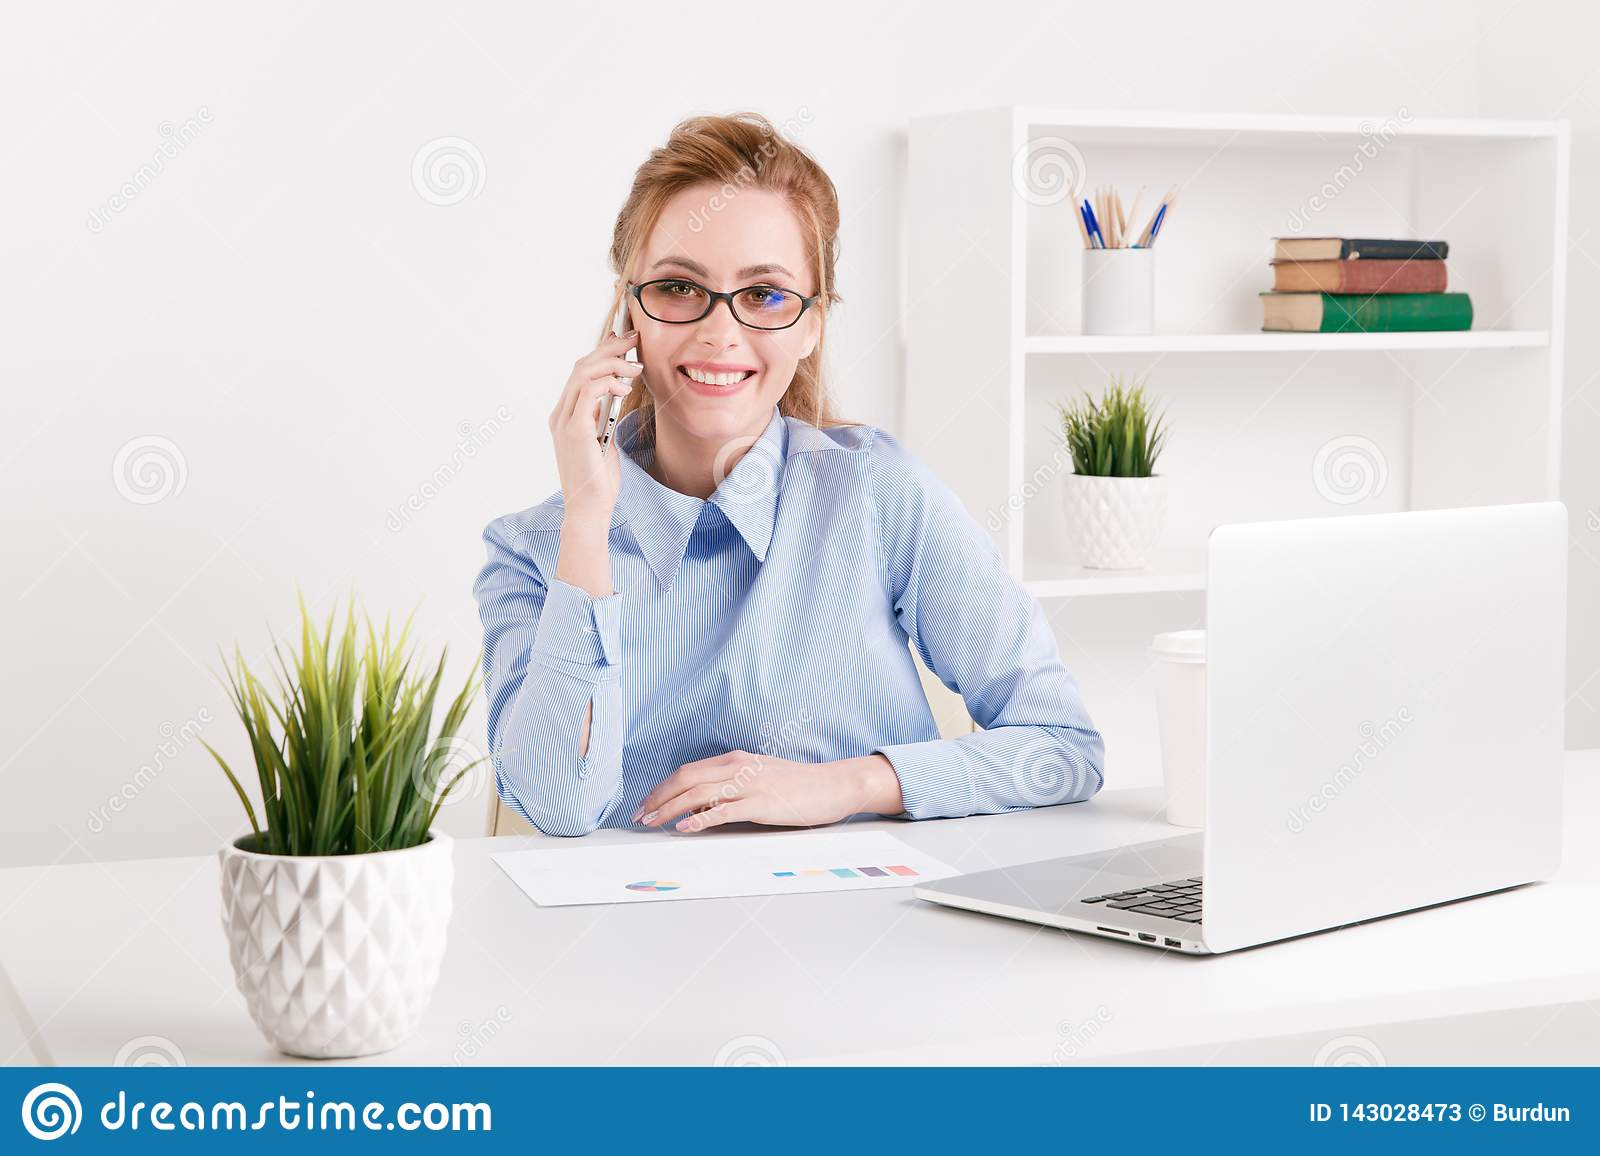phone: (595, 274, 635, 468)
talk: (547, 241, 810, 525)
